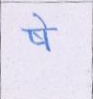e_matra: (32, 12, 49, 28)
